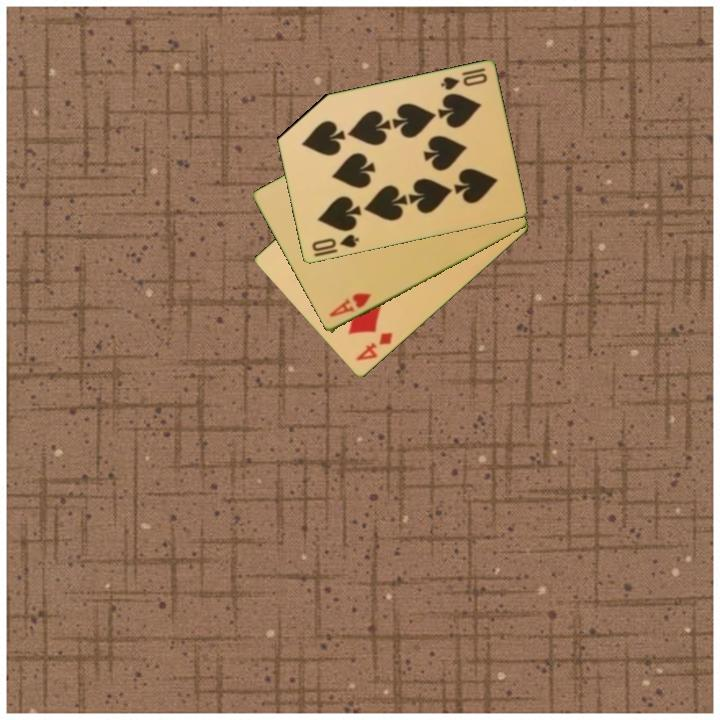10s: (437, 65, 490, 93), (308, 231, 362, 255)
4d: (352, 329, 396, 364)
Ah: (326, 289, 374, 320)
